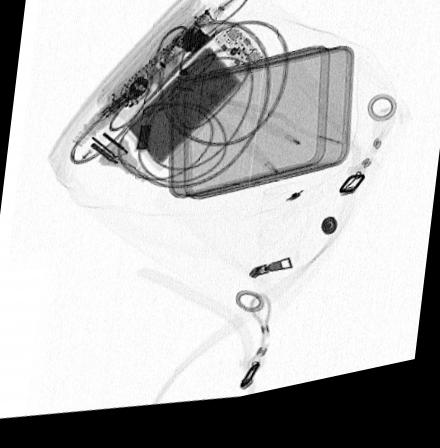Powerbank: (122, 28, 268, 179)
